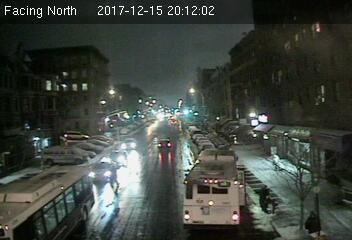bus: (1, 166, 99, 240), (182, 148, 241, 229)
car: (90, 159, 114, 179), (106, 149, 127, 166), (121, 137, 139, 151), (157, 138, 171, 149)
